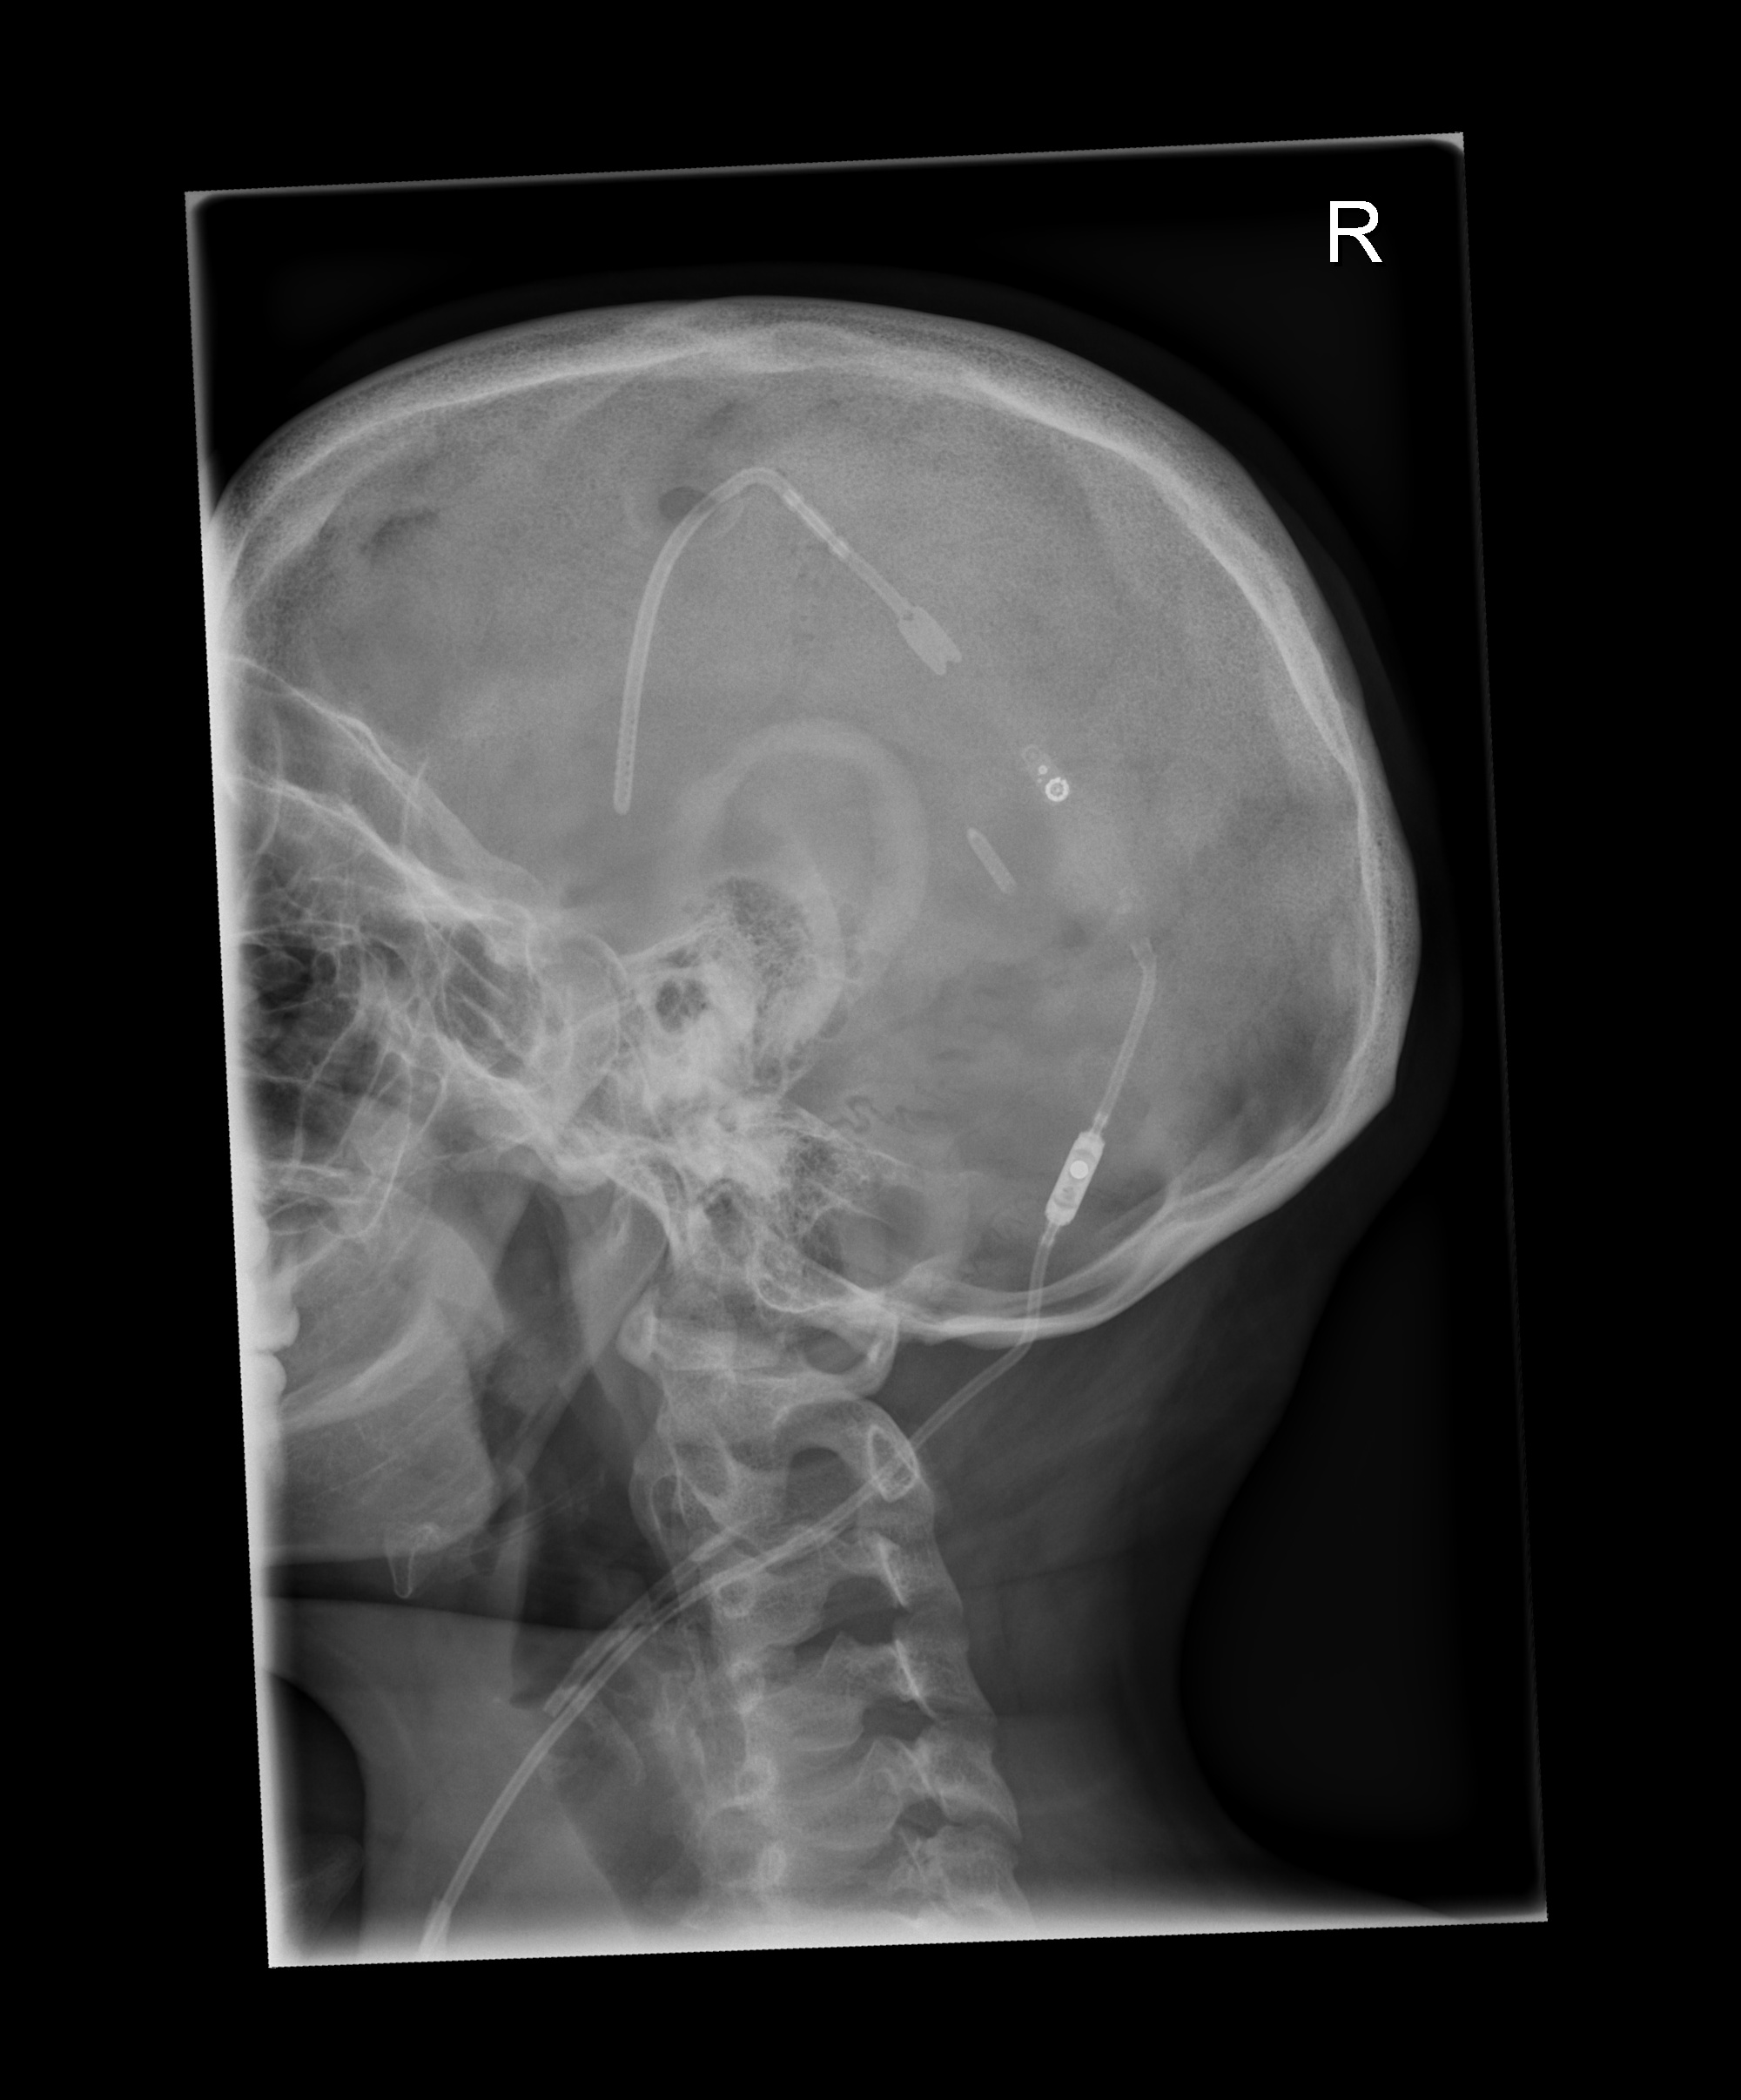Codman Hakim: (1005, 733, 1090, 828)
paediGAV: (1041, 1127, 1106, 1231)
